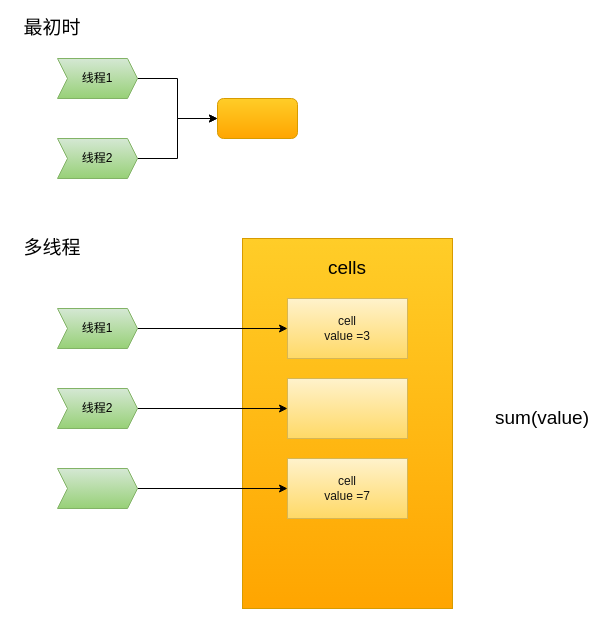
The diagram is 606 pixels wide and 626 high, and some of its shapes have lost their labels. Each missing label, with the centre of its shape:
cell value =6: (x=347, y=408)
count = 0: (x=257, y=118)
线程3: (x=97, y=488)
